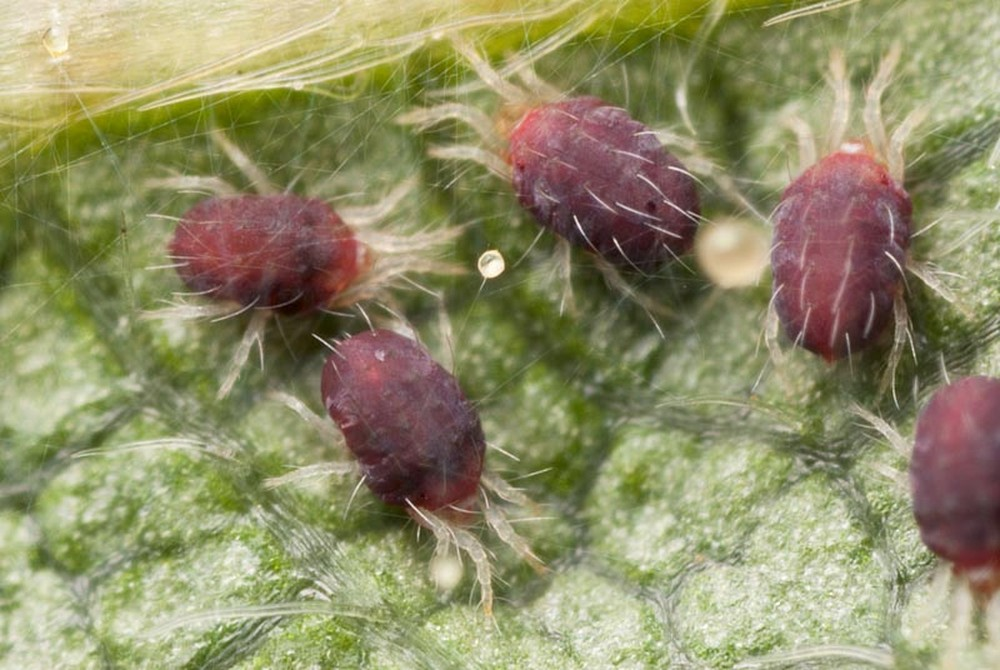Aracnido Rojo: (112, 121, 528, 372), (275, 321, 610, 625), (427, 38, 754, 333), (733, 55, 965, 397), (867, 329, 1000, 654)
